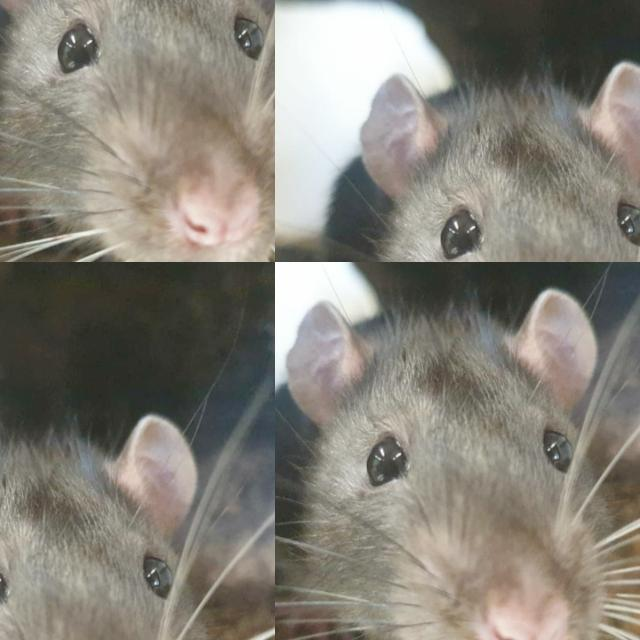rat: (275, 285, 609, 640), (167, 432, 268, 527)
